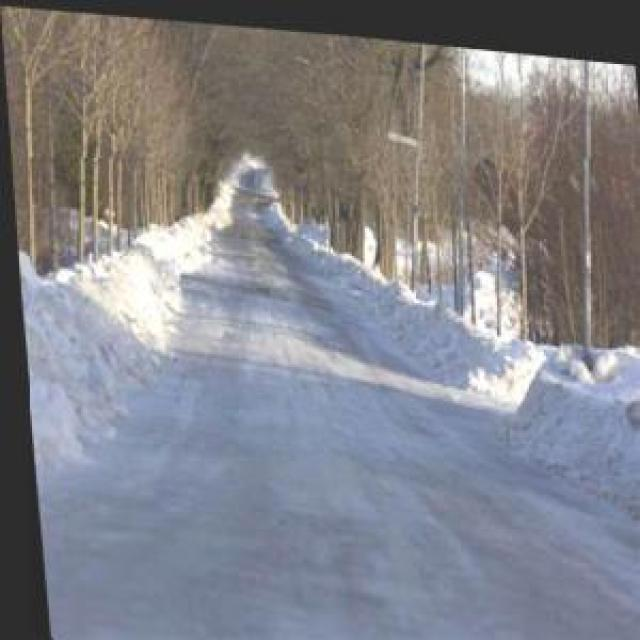ice-road: (32, 158, 638, 640)
